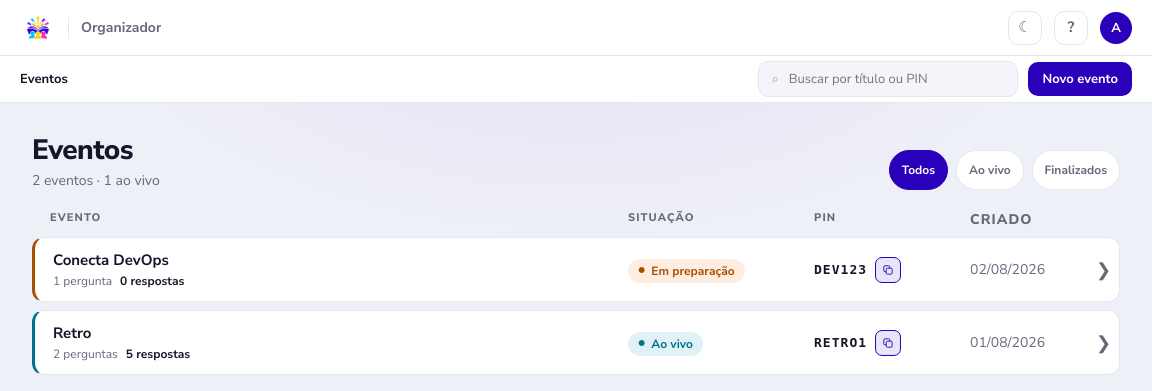
Scenario: Dashboard (meus eventos) › filtra eventos pela busca de título ou PIN
Expected: the text "Conecta DevOps" is shown, [53,250,169,270]
Type "retro" into the field with placeholder "Buscar por título ou PIN".
click(896, 79); type("retro")  # box [787,69,1006,89]
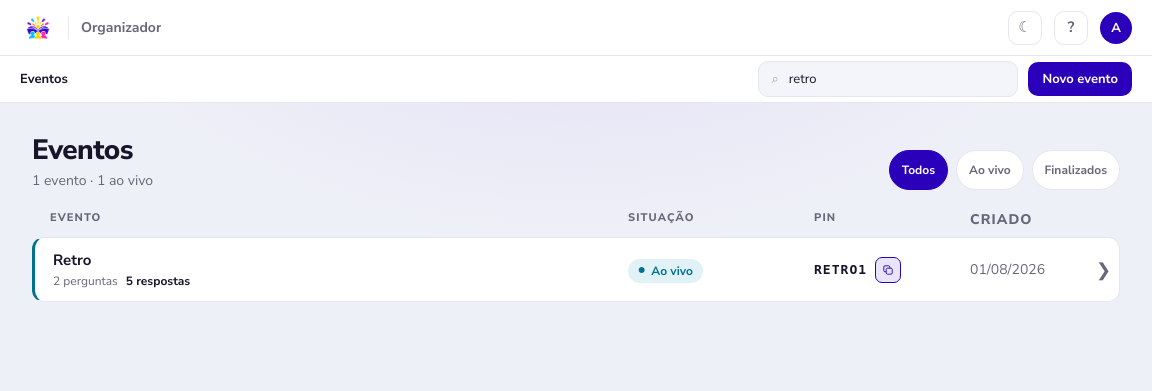
Expected: the text "Retro" is shown, [53,250,91,270]
Now the button "Conecta DevOps" is gone
